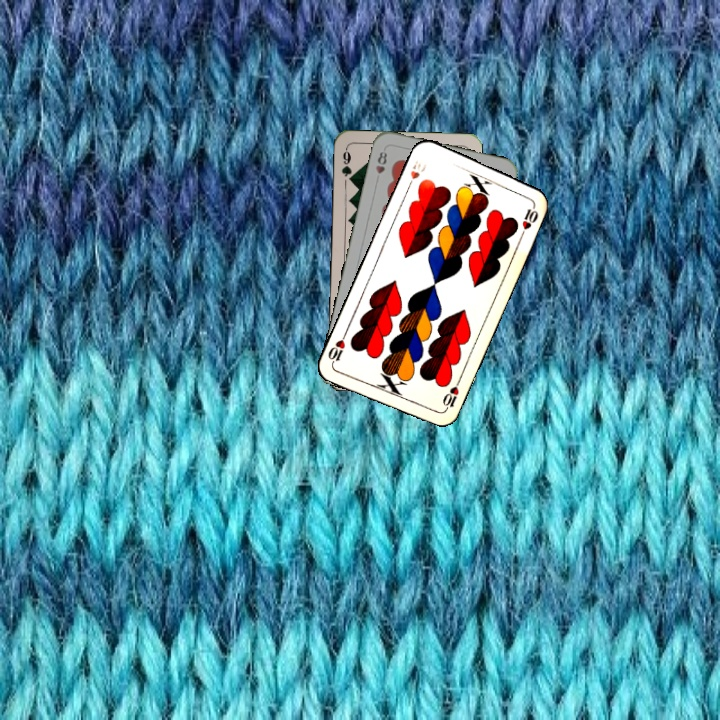G9: (338, 145, 356, 186)
H10: (438, 376, 463, 414), (403, 156, 429, 192)
H8: (372, 148, 390, 185)
